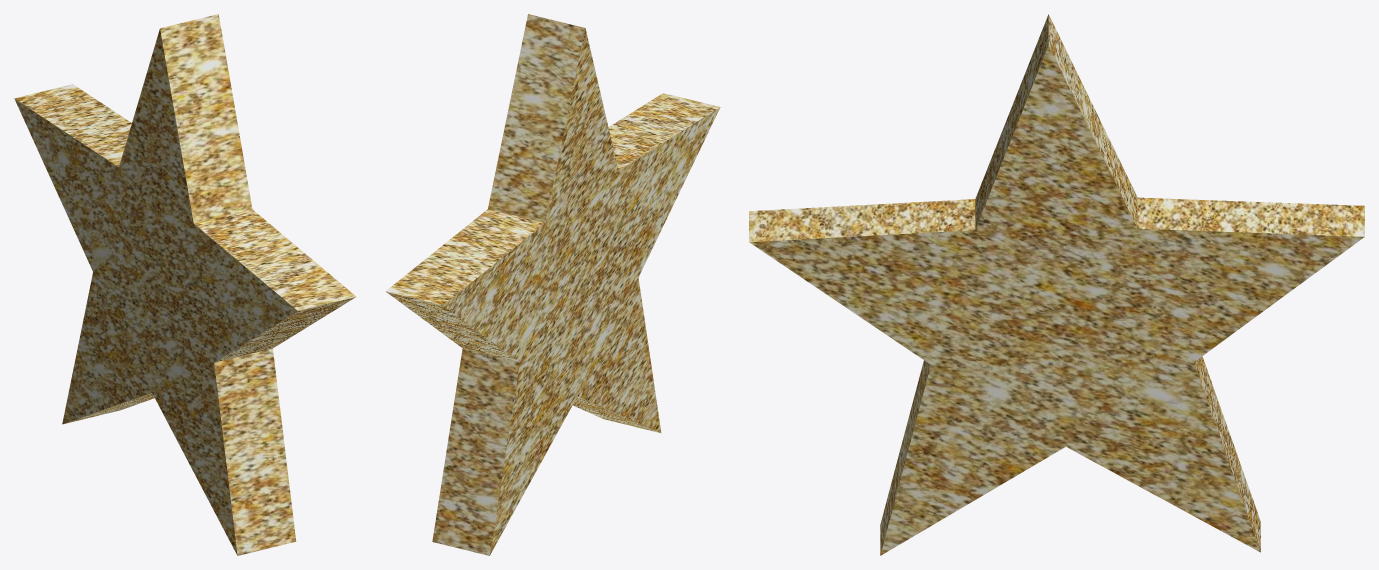
File: Estrella 1.fbx
3 views of the same model, side by side, from view 1: azimuth 30°, elevation 25°; view 2: azimuth 150°, elevation 25°; view 3: azimuth 270°, elevation 25° (orthographic). The views are drawn at different scales.
Parts seen in each view (by area): view 1: Circle; view 2: Circle; view 3: Circle.
Boxes of the visible parts, x1,y1,x2,y2 form: Circle: [14, 14, 356, 555]; Circle: [385, 14, 720, 555]; Circle: [749, 14, 1364, 555].
Bounding box in the file's own units: 50 × 383 × 419.
Materials: 1 (1 with a texture image).
